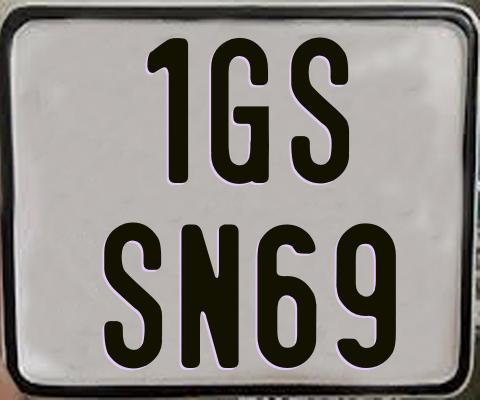1: (147, 38, 194, 186)
6: (254, 223, 319, 372)
9: (333, 222, 394, 367)
G: (208, 38, 268, 186)
N: (179, 224, 243, 373)
S: (289, 36, 352, 188), (101, 221, 161, 368)
